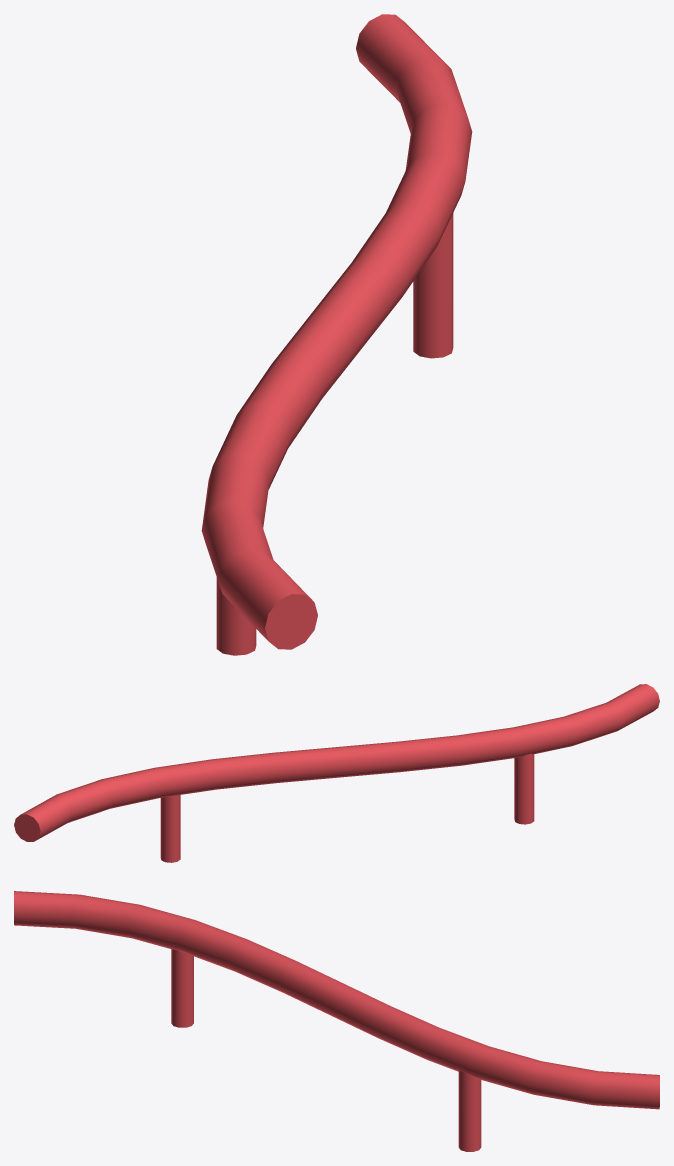
File: rail_left_right.glb
3 renders of one model, top to bottom at view 1: azimuth 30°, elevation 25°; view 2: azimuth 150°, elevation 25°; view 3: azimuth 270°, elevation 25°, orthographic. The views are drawn at different scales.
Visible parts, largest first — view 1: Cylinder.026; view 2: Cylinder.026; view 3: Cylinder.026.
Boxes of the visible parts, box(x1,y1,x2,y2) form: Cylinder.026: box(201, 14, 472, 655); Cylinder.026: box(14, 684, 659, 862); Cylinder.026: box(14, 891, 659, 1151).
Size of the model in its own units: 10.8 by 2.68 by 14.96.
